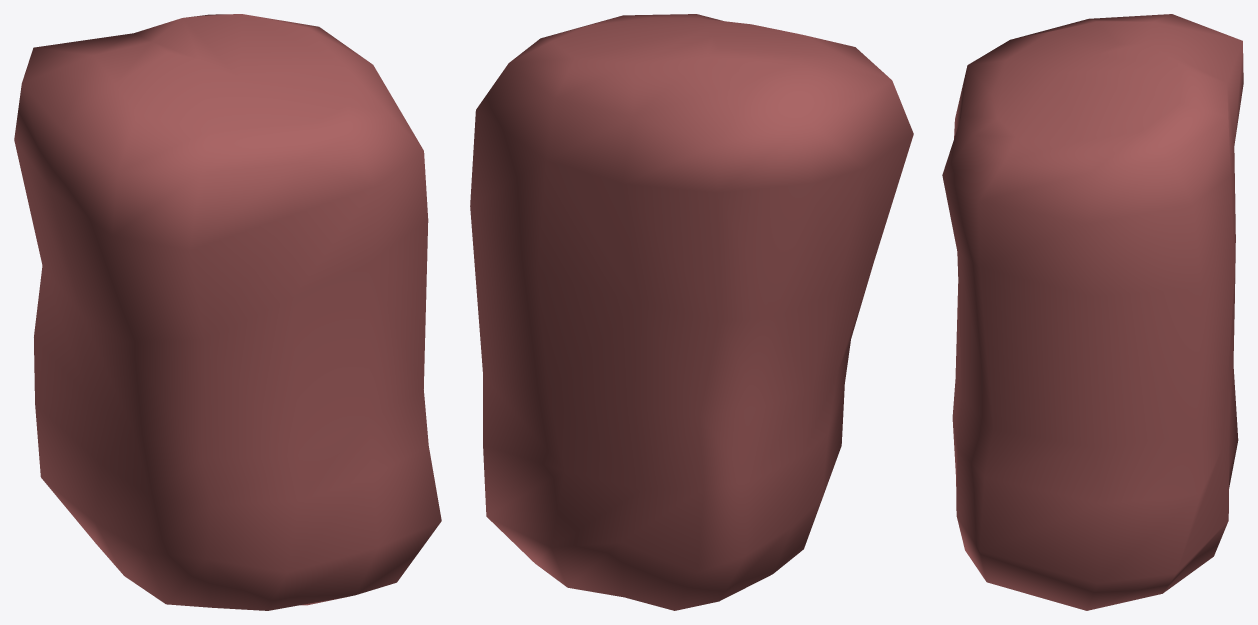
The model's file is SM_cliff05_low.fbx.
3 renders of one model, left to right at view 1: azimuth 30°, elevation 25°; view 2: azimuth 150°, elevation 25°; view 3: azimuth 270°, elevation 25°, orthographic. The views are drawn at different scales.
Visible parts, largest first — view 1: SM_cliff05_low; view 2: SM_cliff05_low; view 3: SM_cliff05_low.
Part boxes in pixels (x1=…): SM_cliff05_low: x1=14, y1=14, x2=441, y2=610; SM_cliff05_low: x1=470, y1=14, x2=913, y2=610; SM_cliff05_low: x1=942, y1=14, x2=1243, y2=610.
Size of the model in its own units: 12.23 by 18.12 by 10.08.
